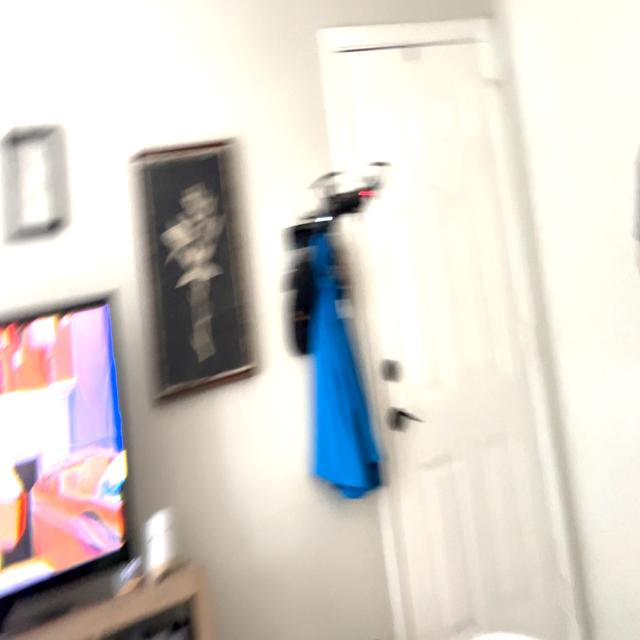drone: (284, 144, 400, 255)
